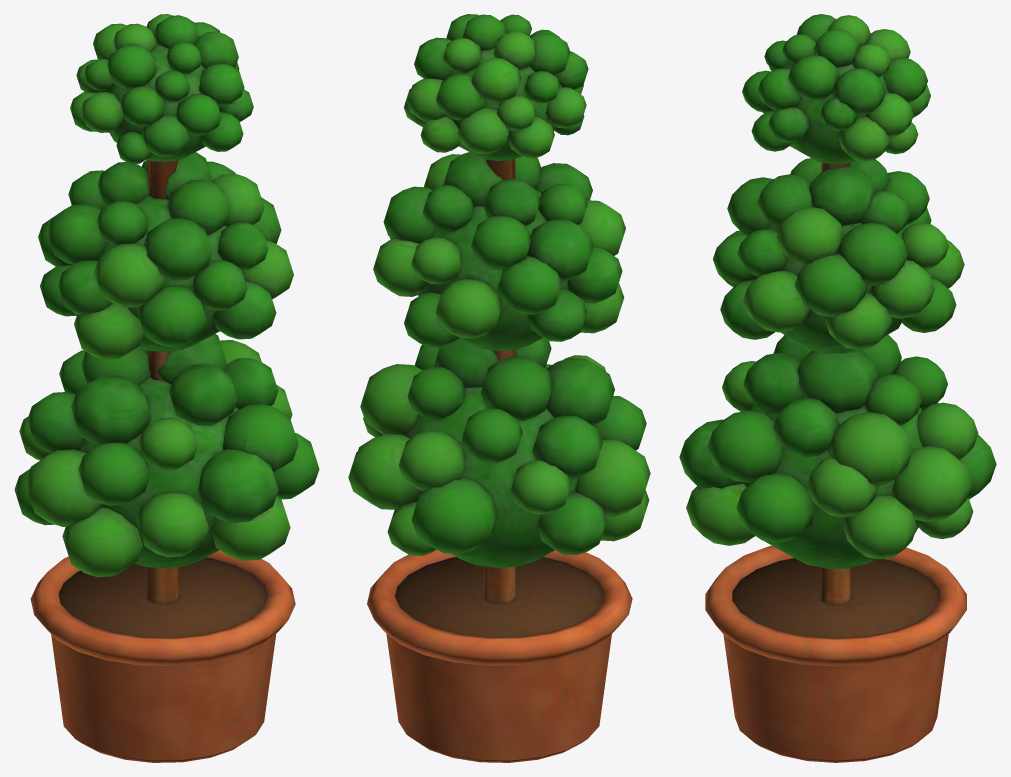
Rendered from topiary.glb.
The picture shows the model from 3 angles, left to right: view 1: azimuth 30°, elevation 25°; view 2: azimuth 150°, elevation 25°; view 3: azimuth 270°, elevation 25°; orthographic projection.
Visible parts, largest first — view 1: topiary; view 2: topiary; view 3: topiary.
Boxes of the visible parts, <box> form: topiary: <box>14,14,319,762</box>; topiary: <box>348,14,650,762</box>; topiary: <box>679,14,996,762</box>.
Bounding box in the file's own units: 0.3698 × 0.9221 × 0.3792.
1 material, 1 textured.
